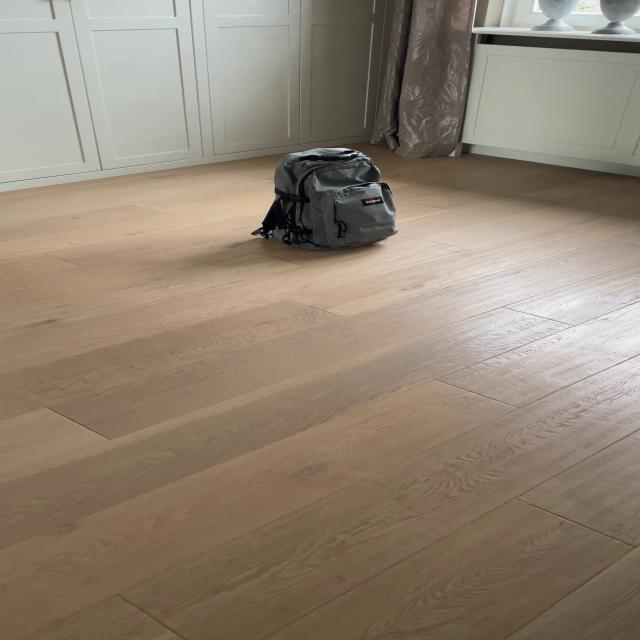backpack: (256, 143, 402, 255)
